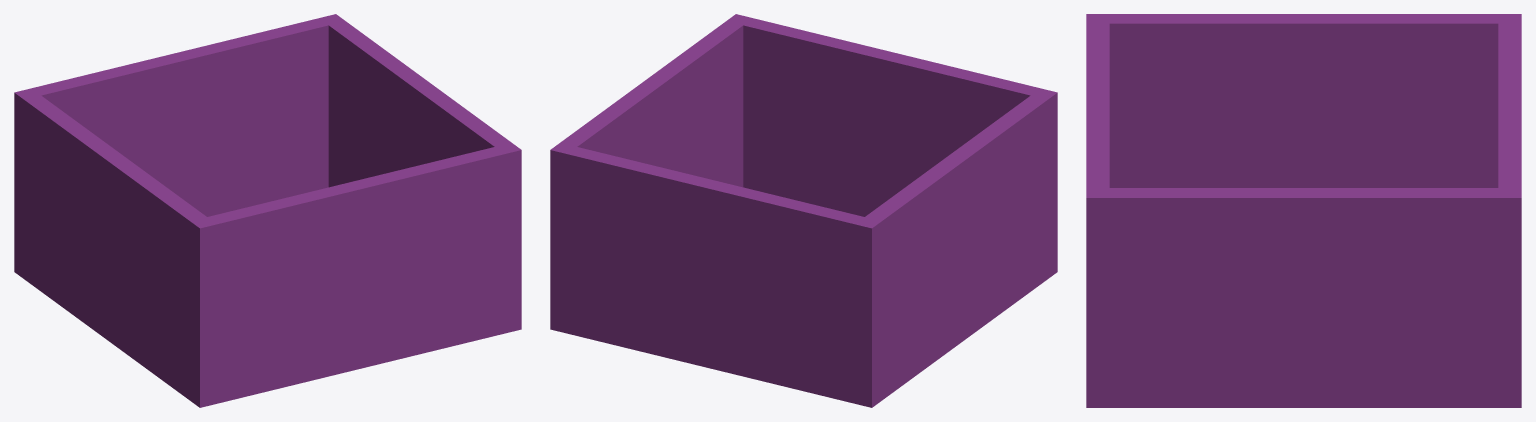
The model's file is Room.fbx.
3 views of the same model, side by side, from view 1: azimuth 30°, elevation 25°; view 2: azimuth 150°, elevation 25°; view 3: azimuth 270°, elevation 25° (orthographic). The views are drawn at different scales.
Parts seen in each view (by area): view 1: Plane; view 2: Plane; view 3: Plane.
Part boxes in pixels (x1,y1,x2,y2): Plane: [14, 14, 521, 407]; Plane: [550, 14, 1057, 407]; Plane: [1086, 14, 1521, 407].
Size of the model in its own units: 19941 by 10774 by 19941.
